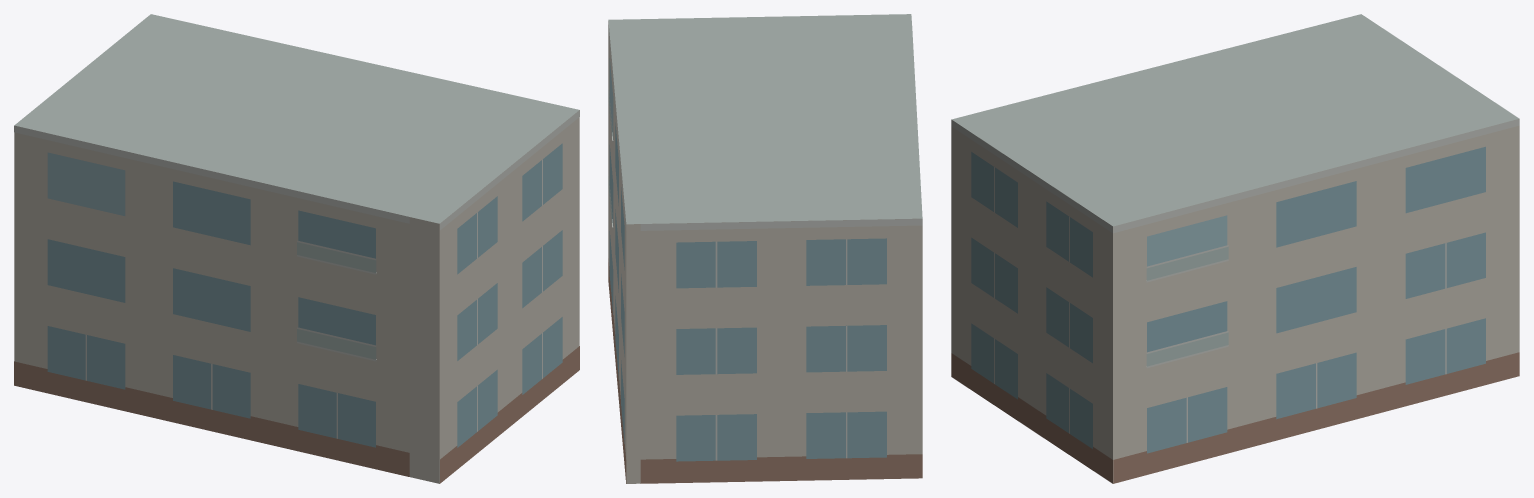
Rendered from survey-upis-32710441.glb.
3 renders of one model, left to right at view 1: azimuth 30°, elevation 25°; view 2: azimuth 150°, elevation 25°; view 3: azimuth 270°, elevation 25°, orthographic.
Visible parts, largest first — view 1: survey-upis-32710441.tmp; view 2: survey-upis-32710441.tmp; view 3: survey-upis-32710441.tmp.
Part boxes in pixels (x1,y1,x2,y2): survey-upis-32710441.tmp: (14,14,579,483); survey-upis-32710441.tmp: (608,14,922,483); survey-upis-32710441.tmp: (951,14,1519,483).
Bounding box in the file's own units: 16.21 × 9.15 × 18.31.
